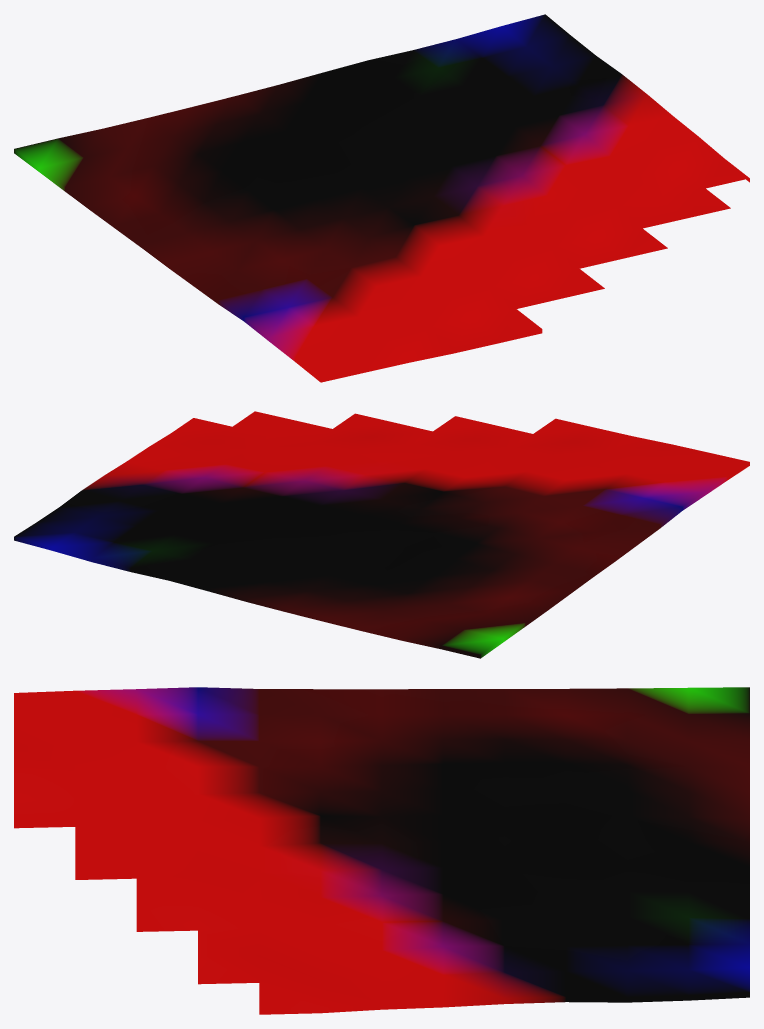
File: coast_18_8.glb
3 views of the same model, one above another, from view 1: azimuth 30°, elevation 25°; view 2: azimuth 150°, elevation 25°; view 3: azimuth 270°, elevation 25° (orthographic). The views are drawn at different scales.
Parts seen in each view (by area): view 1: terrain; view 2: terrain; view 3: terrain.
Boxes of the visible parts, x1,y1,x2,y2 form: terrain: (14, 14, 749, 382); terrain: (14, 411, 749, 658); terrain: (14, 687, 749, 1014).
Size of the model in its own units: 192 by 6.48 by 192.
